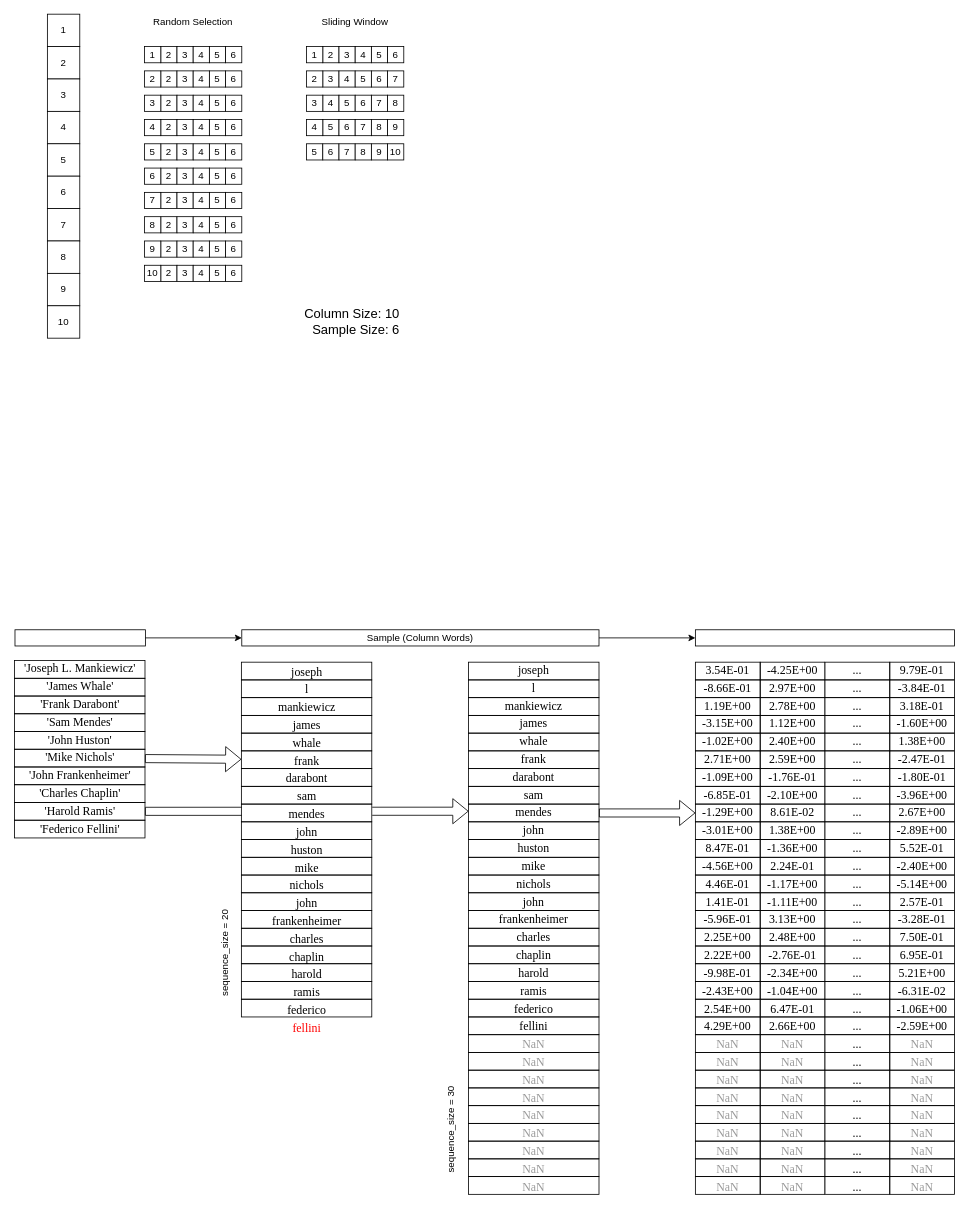
Image size: 969x1211. Some labels were removed from this diagram. Here are the shapes that lost their labels. From the top down, the centre of each, then its label:
(x=79, y=637): Sample (Column Values)
(x=825, y=637): Sample (Word Vectors)
